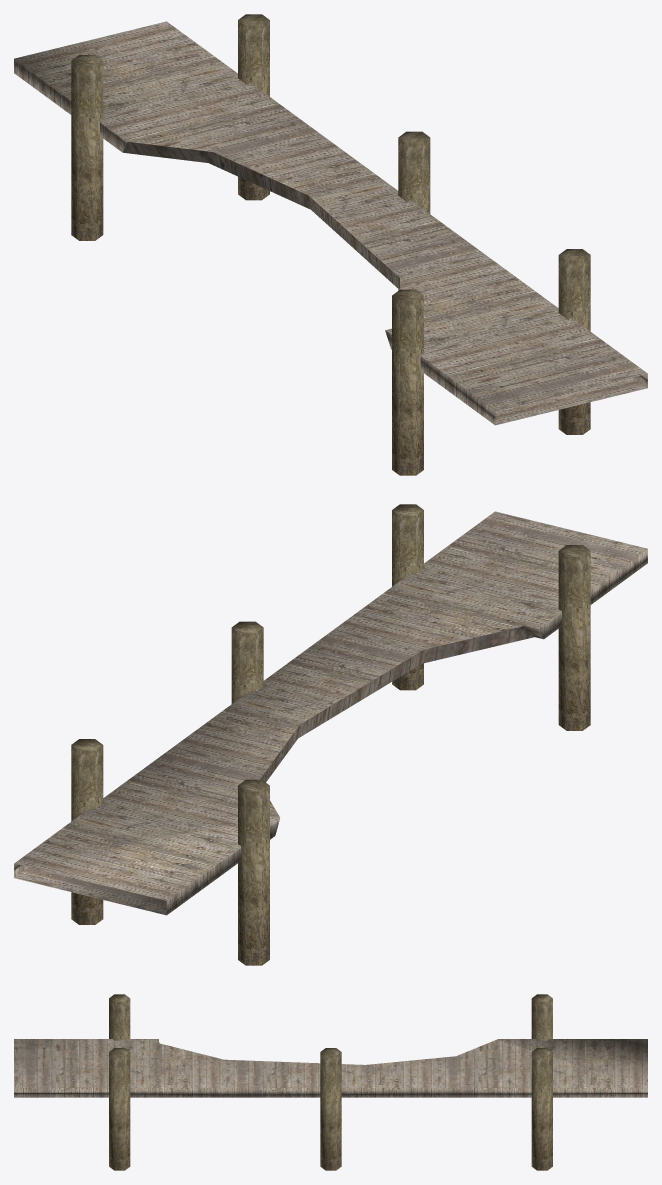
The model's file is Bridge_I-Tile_HalfBroken.fbx.
3 views of the same model, one above another, from view 1: azimuth 30°, elevation 25°; view 2: azimuth 150°, elevation 25°; view 3: azimuth 270°, elevation 25° (orthographic). The views are drawn at different scales.
Visible parts, largest first — view 1: Bridge.I-Tile.HalfBroken; view 2: Bridge.I-Tile.HalfBroken; view 3: Bridge.I-Tile.HalfBroken.
Part boxes in pixels (box(x1,y1,x2,y2)): Bridge.I-Tile.HalfBroken: box(14, 14, 647, 475); Bridge.I-Tile.HalfBroken: box(14, 504, 647, 965); Bridge.I-Tile.HalfBroken: box(14, 994, 647, 1170).
Size of the model in its own units: 68.66 by 59.95 by 300.
